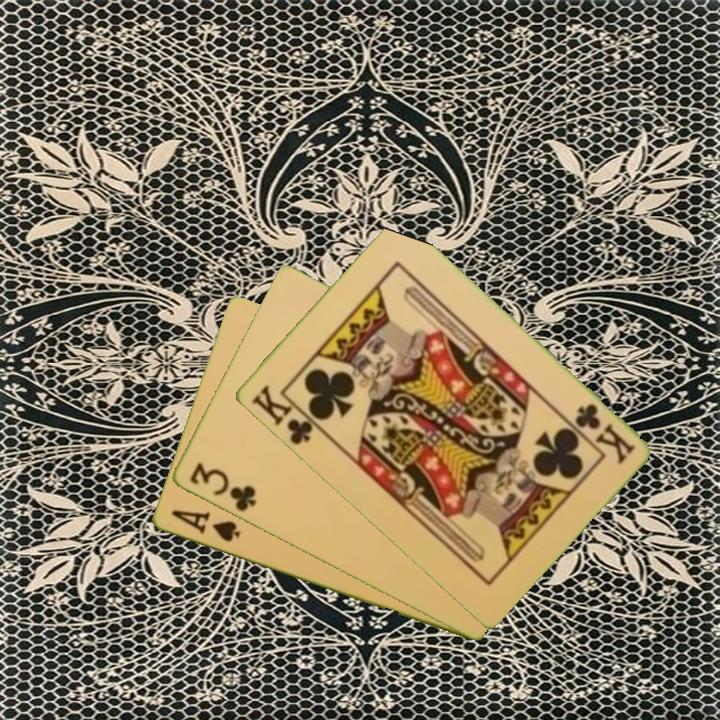3c: (185, 459, 259, 515)
As: (167, 506, 243, 546)
Kc: (247, 381, 324, 448), (570, 399, 639, 467)
